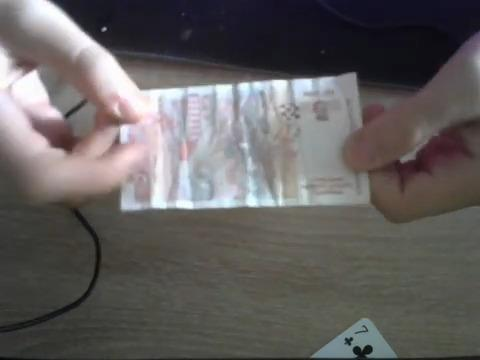5leva: (152, 81, 330, 209)
